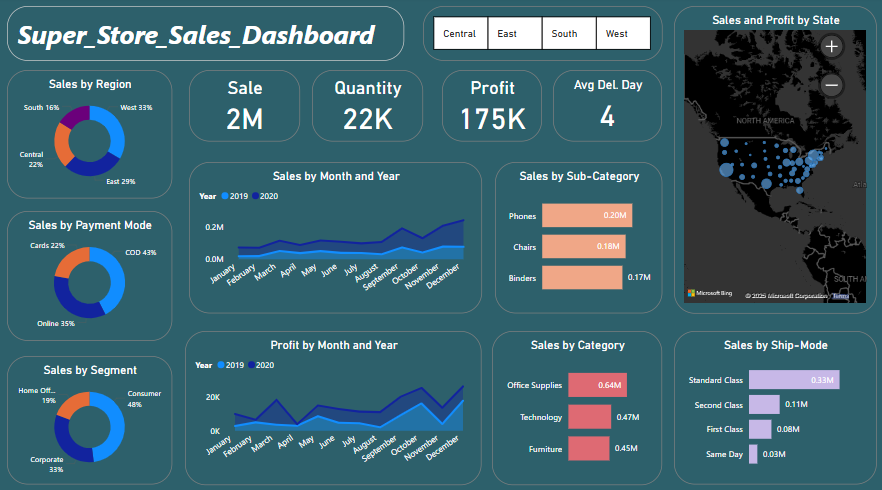

What the dashboard file says about the page in this screenshot:
{"tool":"powerbi","page":{"name":"Sales Basic Analysis","canvas":[1280,720],"ordinal":0},"visuals":[{"type":"clusteredBarChart","title":"Sales by Category","fields":{"Category":["SuperStore_Sales_Dataset.Category"],"Y":["Sum(SuperStore_Sales_Dataset.Sales)"]},"box":[711.5,480.9,244.9,221.7],"z":0},{"type":"clusteredBarChart","title":"Sales by Sub-Category","fields":{"Category":["SuperStore_Sales_Dataset.Sub-Category"],"Y":["Sum(SuperStore_Sales_Dataset.Sales)"]},"box":[715.1,237.8,241.3,218.1],"z":1000},{"type":"clusteredBarChart","title":"Sales by Ship-Mode","fields":{"Category":["SuperStore_Sales_Dataset.Ship Mode"],"Y":["Sum(SuperStore_Sales_Dataset.Sales)"]},"box":[974,480.7,291.6,221.4],"z":2000},{"type":"stackedAreaChart","title":"Sales by Month and Year","fields":{"Category":["SuperStore_Sales_Dataset.Order Date.Variation.Date Hierarchy.Month","SuperStore_Sales_Dataset.Order Date.Variation.Date Hierarchy.Day"],"Y":["Sum(SuperStore_Sales_Dataset.Sales)"],"Series":["SuperStore_Sales_Dataset.Order Date.Variation.Date Hierarchy.Year"]},"box":[275.3,237.8,421.9,218.1],"z":3000},{"type":"stackedAreaChart","title":"Profit by Month and Year","fields":{"Category":["SuperStore_Sales_Dataset.Order Date.Variation.Date Hierarchy.Month","SuperStore_Sales_Dataset.Order Date.Variation.Date Hierarchy.Day"],"Series":["SuperStore_Sales_Dataset.Order Date.Variation.Date Hierarchy.Year"],"Y":["Sum(SuperStore_Sales_Dataset.Profit)"]},"box":[269.9,480.9,427.3,221.7],"z":4000},{"type":"map","title":"Sales and Profit by State","fields":{"Category":["SuperStore_Sales_Dataset.State"],"Size":["CountNonNull(SuperStore_Sales_Dataset.Sales)"]},"box":[974,12.6,291.6,442.9],"z":5000},{"type":"donutChart","title":"Sales by Segment","fields":{"Category":["SuperStore_Sales_Dataset.Segment"],"Y":["Sum(SuperStore_Sales_Dataset.Sales)"]},"box":[12.6,516.7,237.6,185.4],"z":6000},{"type":"donutChart","title":"Sales by Payment Mode","fields":{"Category":["SuperStore_Sales_Dataset.Payment Mode"],"Y":["Sum(SuperStore_Sales_Dataset.Sales)"]},"box":[12.6,307.8,237.6,187.2],"z":7000},{"type":"advancedSlicerVisual","fields":{"Values":["SuperStore_Sales_Dataset.Region"]},"box":[611.4,12.5,345,78.7],"z":8000},{"type":"textbox","box":[12.5,12.5,572.1,78.7],"z":9000},{"type":"card","title":"Sale","fields":{"Values":["Sum(SuperStore_Sales_Dataset.Sales)"]},"box":[275.4,104.4,160.2,102.6],"z":10000},{"type":"card","title":"Quantity","fields":{"Values":["Sum(SuperStore_Sales_Dataset.Quantity)"]},"box":[451.9,104.4,160.2,102.6],"z":11000},{"type":"card","title":"Profit","fields":{"Values":["Sum(SuperStore_Sales_Dataset.Profit)"]},"box":[639.1,104.4,144,102.6],"z":12000},{"type":"card","title":"Avg Del. Day","fields":{"Values":["Avg(SuperStore_Sales_Dataset.AvgDelivery_Day)"]},"box":[799.3,104.4,156.6,102.6],"z":13000},{"type":"donutChart","title":"Sales by Region","fields":{"Y":["Sum(SuperStore_Sales_Dataset.Sales)"],"Category":["SuperStore_Sales_Dataset.Region"]},"box":[12.6,104.4,237.6,185.4],"z":14000}]}

Visuals, with their boxes in screenshot pixels (x1, y1, x2, y2), scaled from the page's 1280x720 canvas onto the 882x490 screenshot:
"Sales by Category" clusteredBarChart: rect(490, 327, 659, 478)
"Sales by Sub-Category" clusteredBarChart: rect(493, 162, 659, 310)
"Sales by Ship-Mode" clusteredBarChart: rect(671, 327, 872, 478)
"Sales by Month and Year" stackedAreaChart: rect(190, 162, 480, 310)
"Profit by Month and Year" stackedAreaChart: rect(186, 327, 480, 478)
"Sales and Profit by State" map: rect(671, 9, 872, 310)
"Sales by Segment" donutChart: rect(9, 352, 172, 478)
"Sales by Payment Mode" donutChart: rect(9, 209, 172, 337)
advancedSlicerVisual - SuperStore_Sales_Dataset.Region: rect(421, 9, 659, 62)
textbox: rect(9, 9, 403, 62)
"Sale" card: rect(190, 71, 300, 141)
"Quantity" card: rect(311, 71, 422, 141)
"Profit" card: rect(440, 71, 540, 141)
"Avg Del. Day" card: rect(551, 71, 659, 141)
"Sales by Region" donutChart: rect(9, 71, 172, 197)
